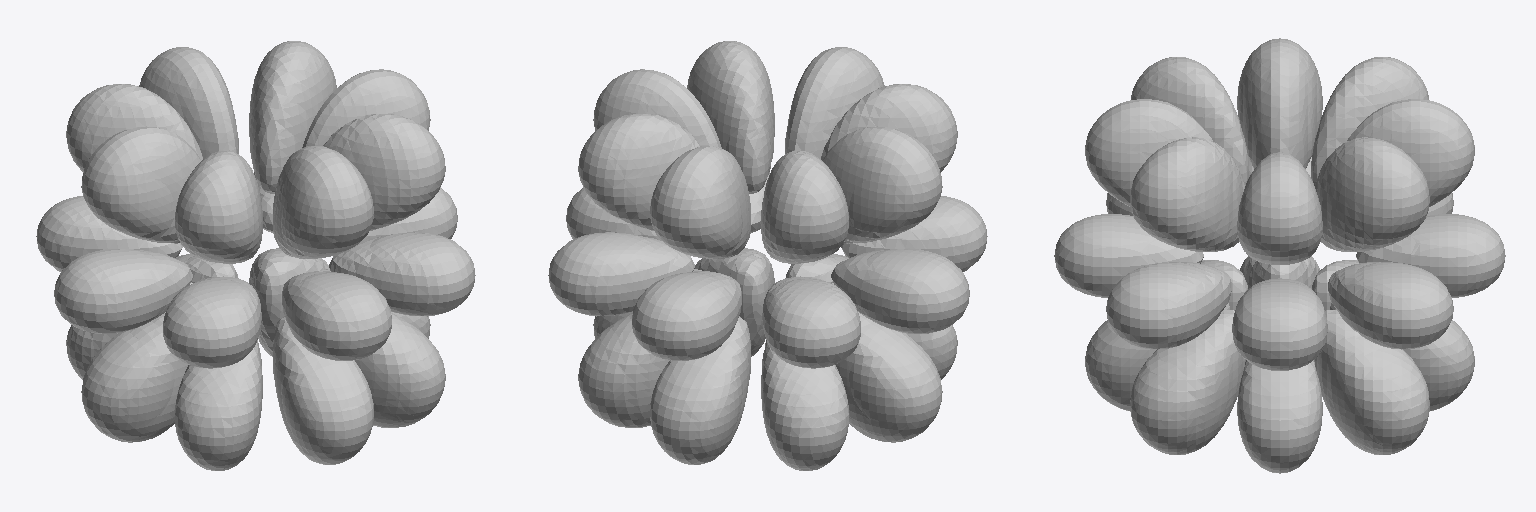
Rendered from orb_n=7_ l=6 _m=4.obj.
3 views of the same model, side by side, from view 1: azimuth 30°, elevation 25°; view 2: azimuth 150°, elevation 25°; view 3: azimuth 270°, elevation 25° (orthographic).
Parts seen in each view (by area): view 1: orb_n=7__l=6__m=4; view 2: orb_n=7__l=6__m=4; view 3: orb_n=7__l=6__m=4.
Part boxes in pixels (left/top/right/bottom): orb_n=7__l=6__m=4: left=36, top=41, right=475, bottom=470; orb_n=7__l=6__m=4: left=548, top=41, right=987, bottom=470; orb_n=7__l=6__m=4: left=1054, top=38, right=1505, bottom=473.
Bounding box in the file's own units: 161 × 122 × 161.